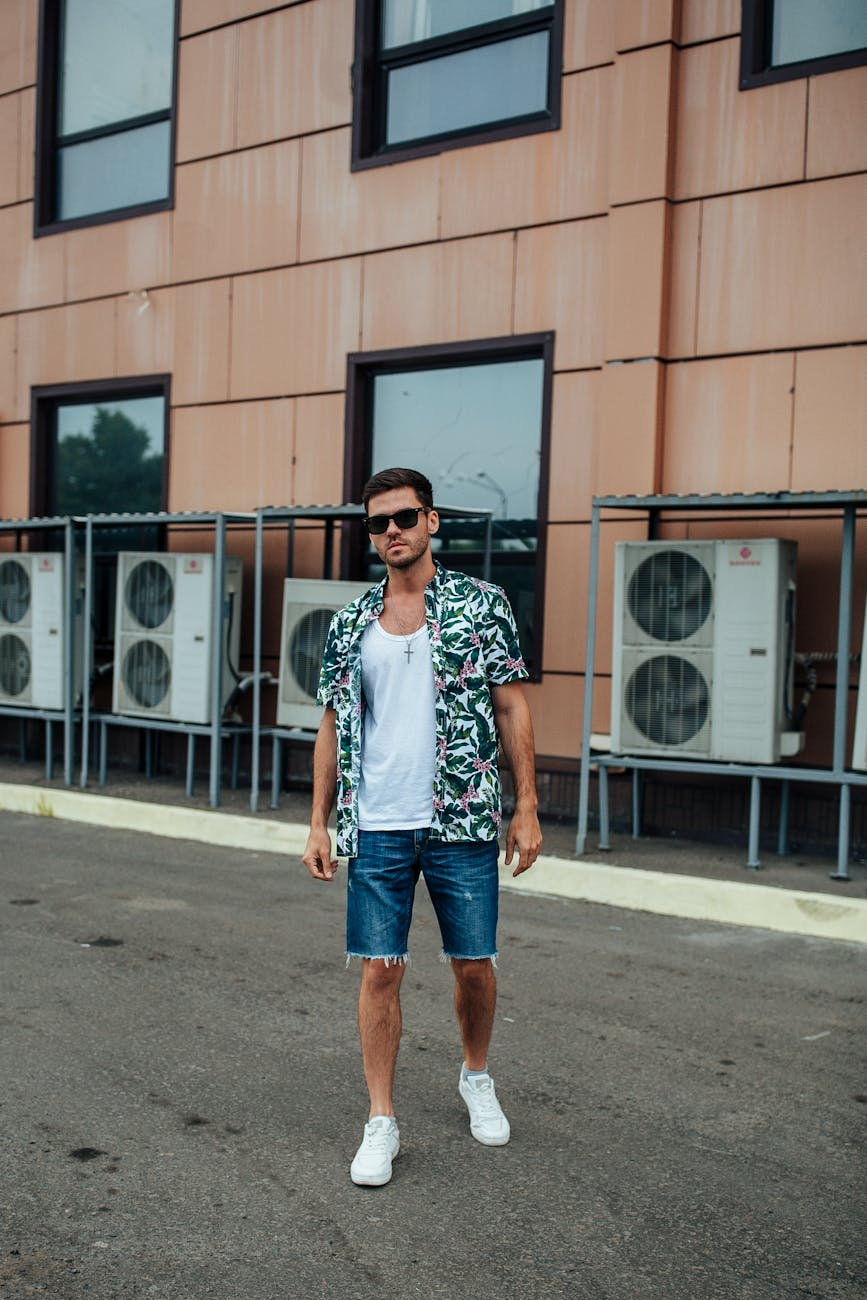shorts: (335, 823, 510, 967)
